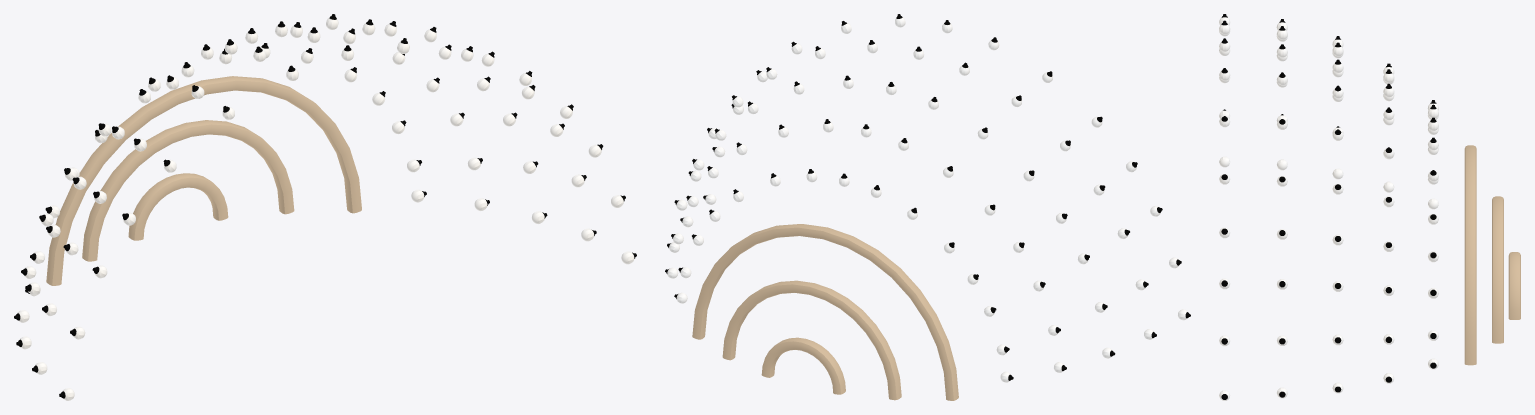
File: stageslamp.glb
3 views of the same model, side by side, from view 1: azimuth 30°, elevation 25°; view 2: azimuth 150°, elevation 25°; view 3: azimuth 270°, elevation 25° (orthographic). The views are drawn at different scales.
Visible parts, largest first — view 1: StagesLamp; view 2: StagesLamp; view 3: StagesLamp.
Boxes of the visible parts, bbox=[...] form: StagesLamp: bbox=[14, 14, 636, 400]; StagesLamp: bbox=[665, 14, 1190, 400]; StagesLamp: bbox=[1219, 14, 1520, 400].
Size of what is drawn, in the model's own units: 14.1 by 7.16 by 7.48.
Materials: 2 (1 with a texture image).
